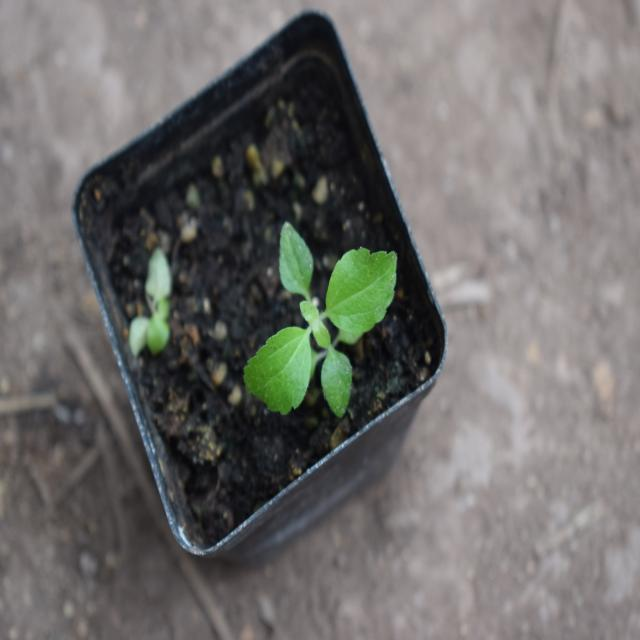billygoat_weed: (238, 214, 393, 422)
